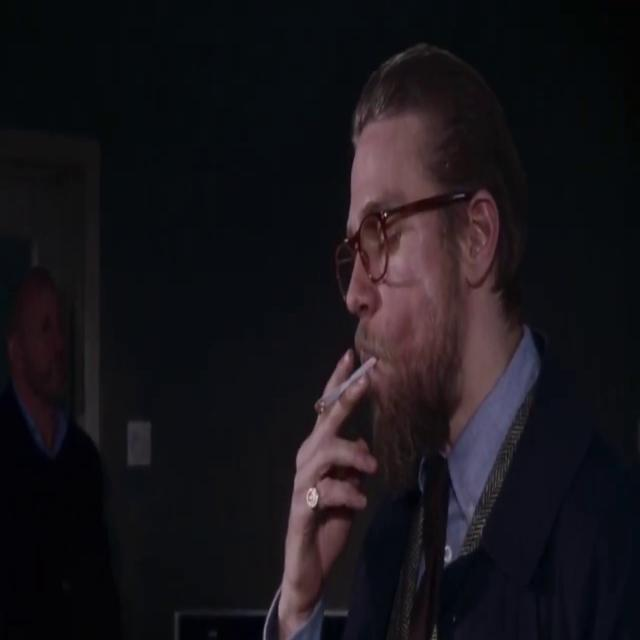Smooking: (313, 345, 382, 417)
